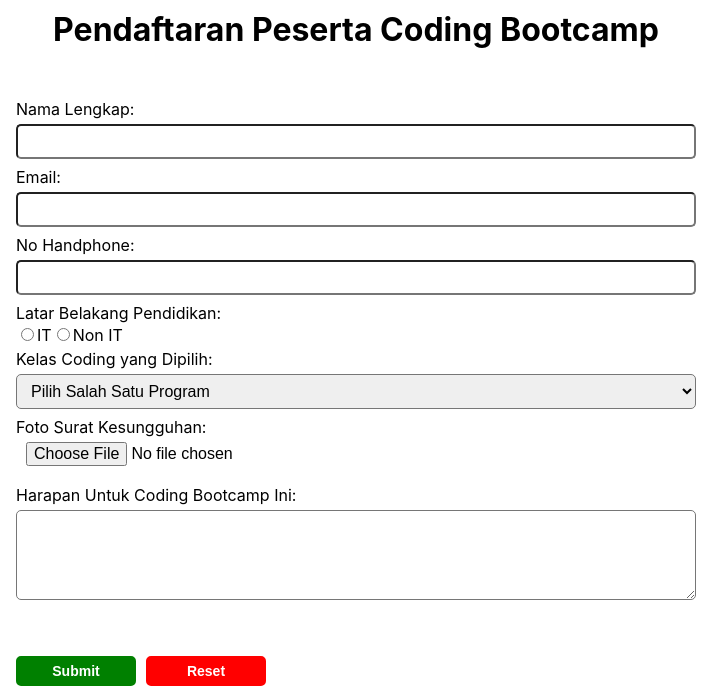
Test: FormCoding › Input to show error input for phone number under baselimit
Type "12345" into the number field labelled "No Handphone:". click: point(356, 278)
box: [16,260,696,295]
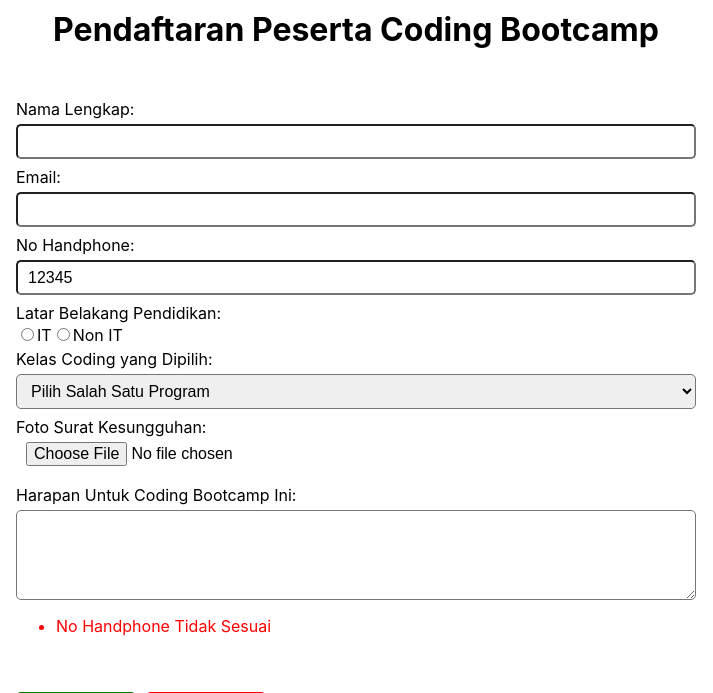
Result: the list item "No Handphone Tidak Sesuai" is shown at [56,616,271,636]
